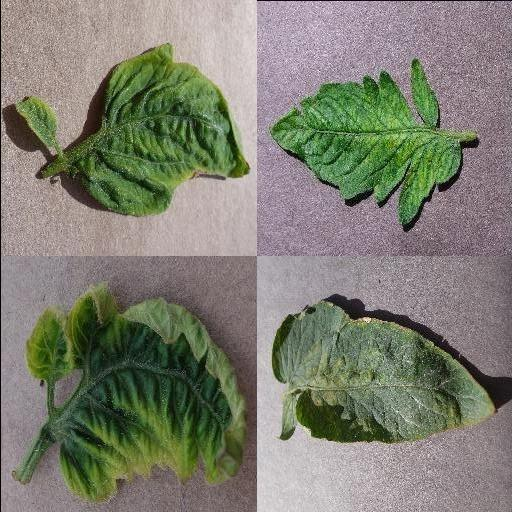Mosaic Virus: (268, 57, 462, 225)
Spider Mites: (270, 302, 498, 444)
Yellow Leaf Curl Virus: (26, 284, 246, 504), (76, 43, 248, 218)
